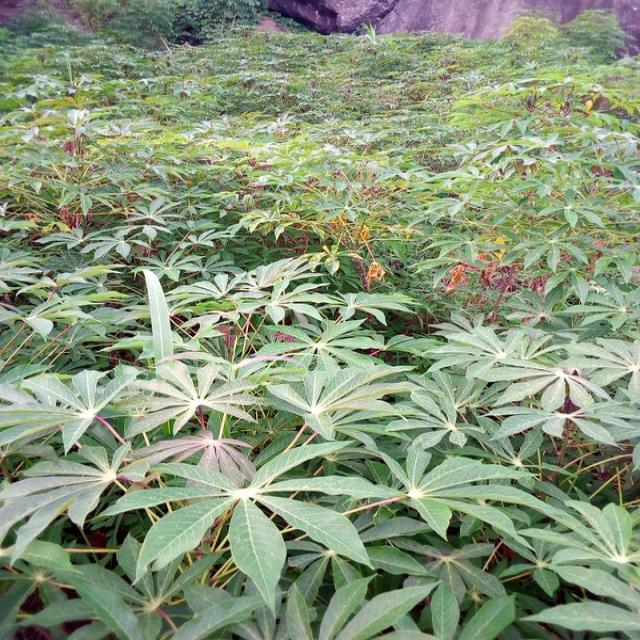cassava leaf: (1, 9, 638, 638), (228, 497, 286, 617)
